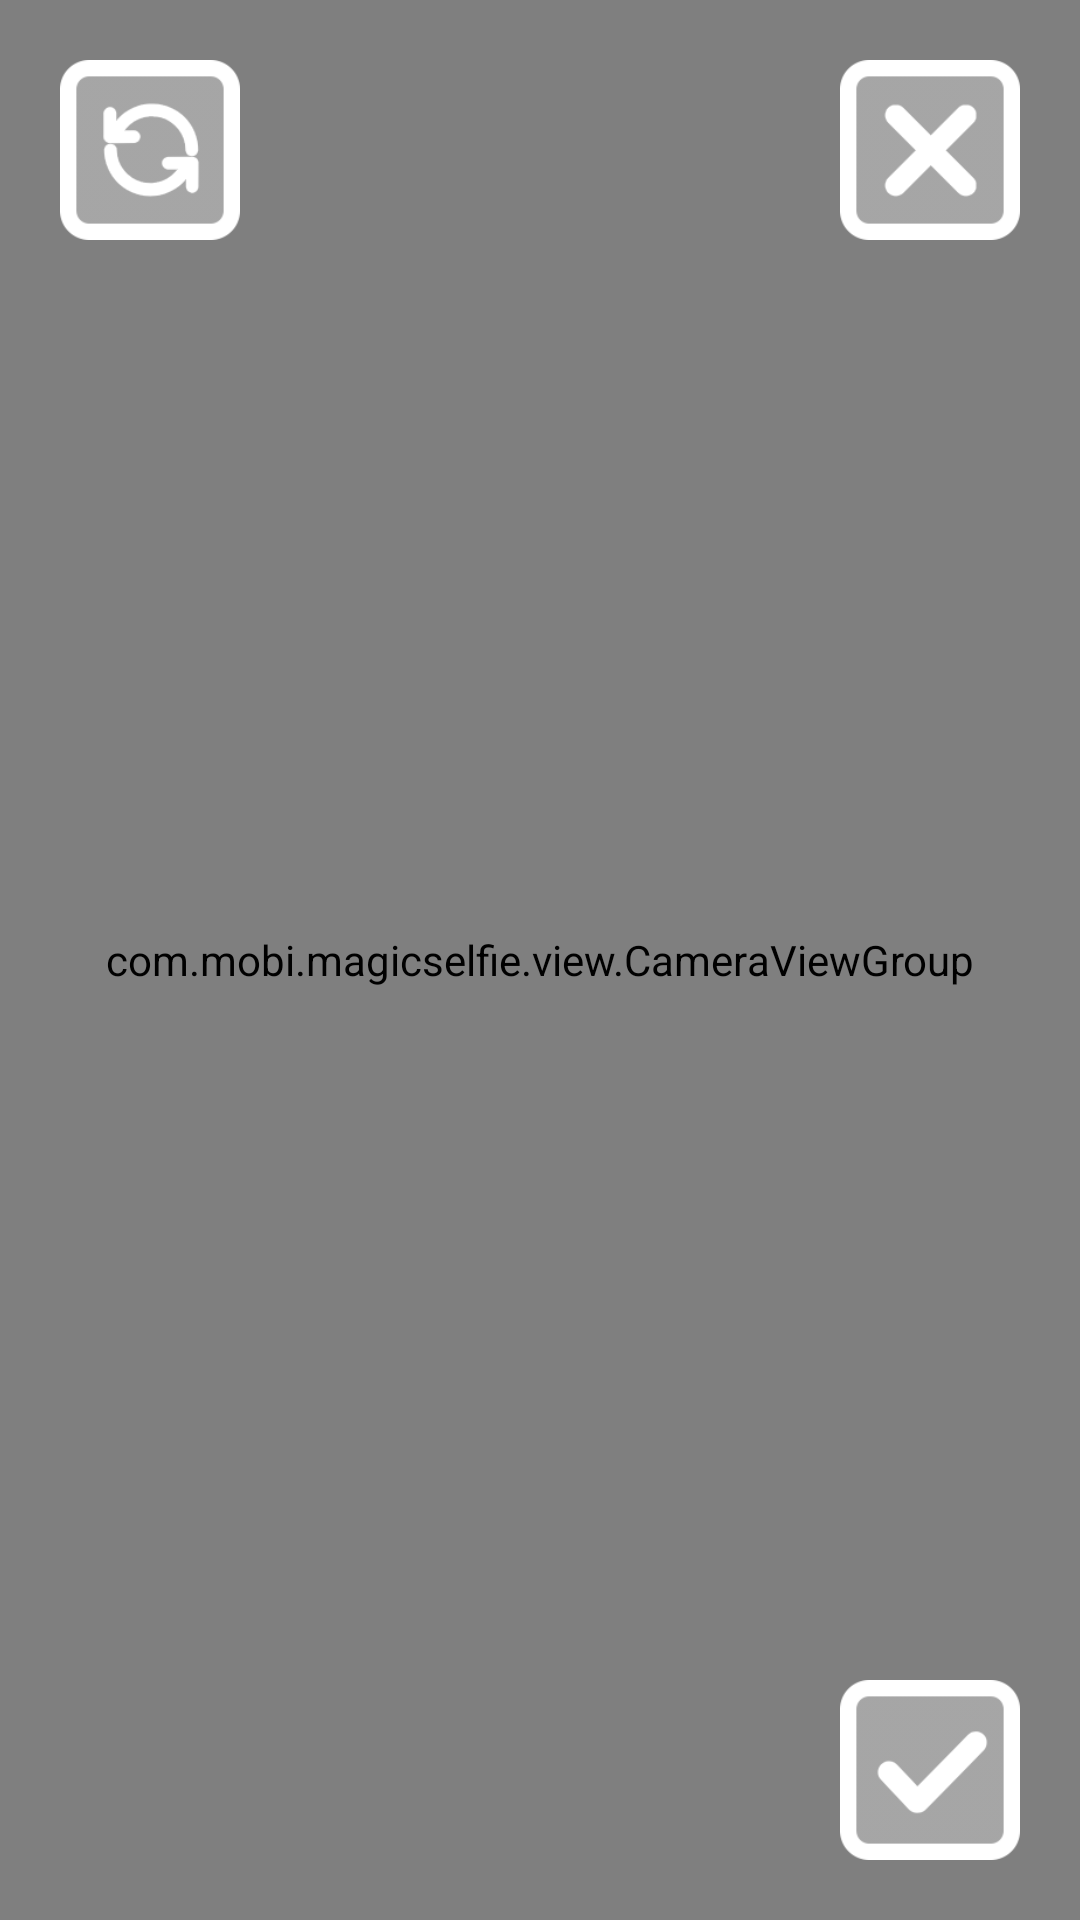

Named icons in this screenshot (1080x1920) and their bounding boxes, (x1, y1, x2, y2):
change: (60, 60, 240, 240)
close: (840, 60, 1020, 240)
take: (840, 1680, 1020, 1860)
